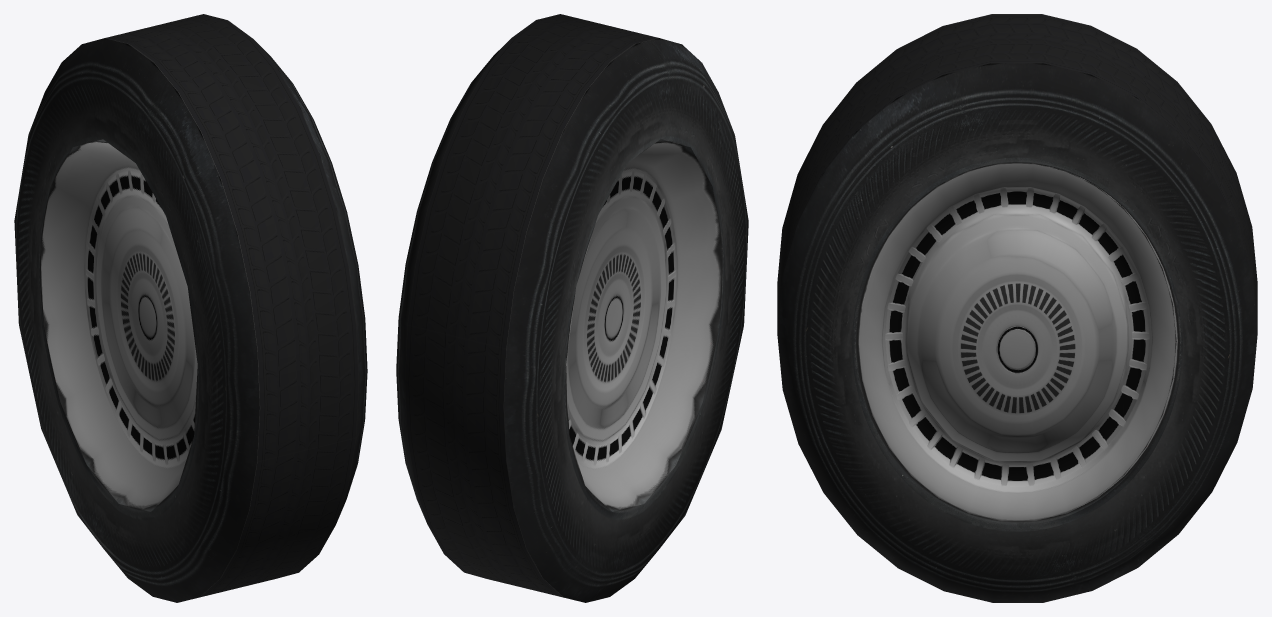
The model's file is Wheel.obj.
3 views of the same model, side by side, from view 1: azimuth 30°, elevation 25°; view 2: azimuth 150°, elevation 25°; view 3: azimuth 270°, elevation 25° (orthographic).
Parts seen in each view (by area): view 1: Wheel_FL; view 2: Wheel_FL; view 3: Wheel_FL.
Boxes of the visible parts, bbox=[...] form: Wheel_FL: bbox=[14, 14, 367, 602]; Wheel_FL: bbox=[396, 14, 748, 602]; Wheel_FL: bbox=[777, 14, 1257, 602].
Size of the model in its own units: 3.93 by 12.82 by 10.33.
Materials: 1 (1 with a texture image).
